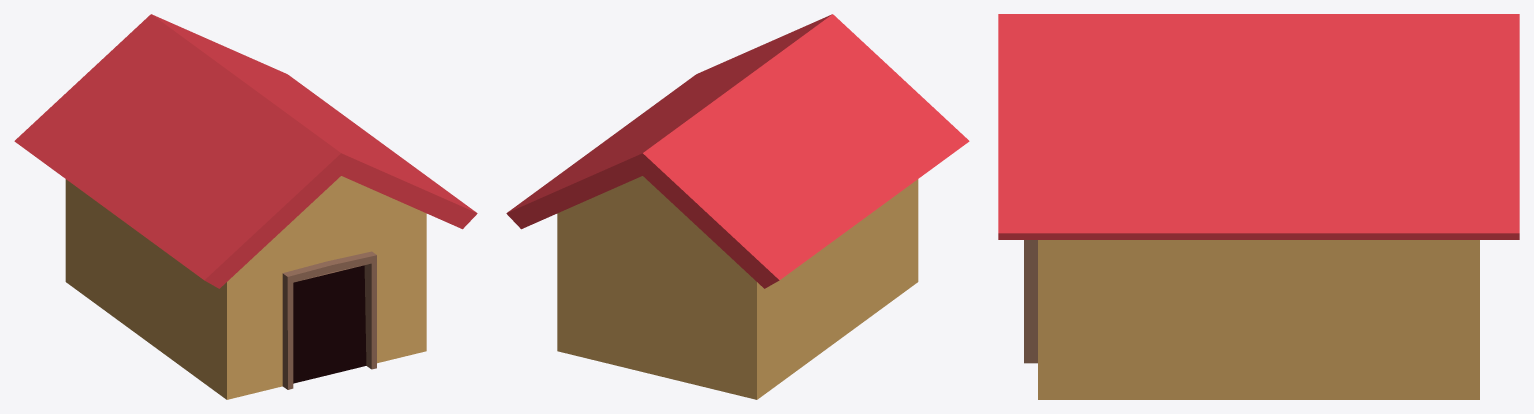
File: town_center.fbx
The picture shows the model from 3 angles, left to right: view 1: azimuth 30°, elevation 25°; view 2: azimuth 150°, elevation 25°; view 3: azimuth 270°, elevation 25°; orthographic projection. The views are drawn at different scales.
Parts seen in each view (by area): view 1: towncenter; view 2: towncenter; view 3: towncenter.
Part boxes in pixels (<box>): towncenter: <box>14,14,477,399</box>; towncenter: <box>506,14,969,399</box>; towncenter: <box>998,14,1519,399</box>.
Size of the model in its own units: 0.9897 by 0.8058 by 1.19.
